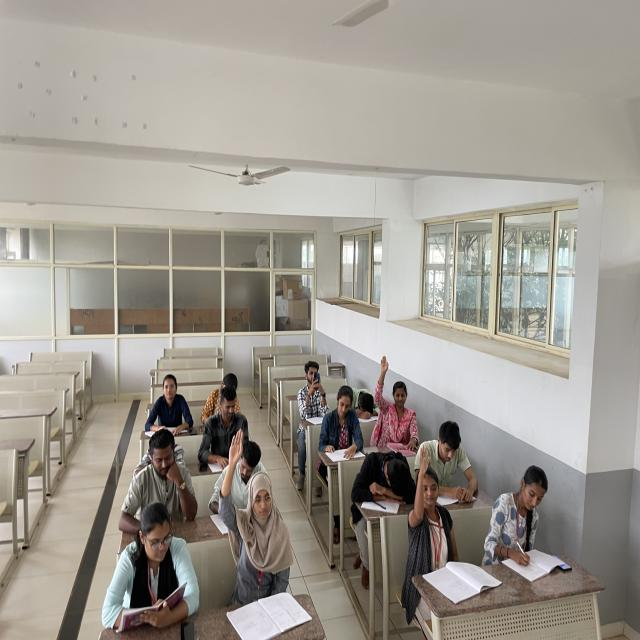Hand Rising: (215, 426, 294, 615), (402, 444, 458, 564), (374, 356, 419, 446)
Reading: (96, 496, 208, 640), (424, 419, 480, 503), (200, 386, 249, 472), (318, 384, 367, 463)
Sleeping: (351, 446, 419, 511), (349, 381, 382, 420)
Using Phone: (116, 428, 199, 532), (295, 359, 330, 423)
Writing: (480, 461, 572, 579), (206, 440, 264, 538), (136, 370, 197, 438)
